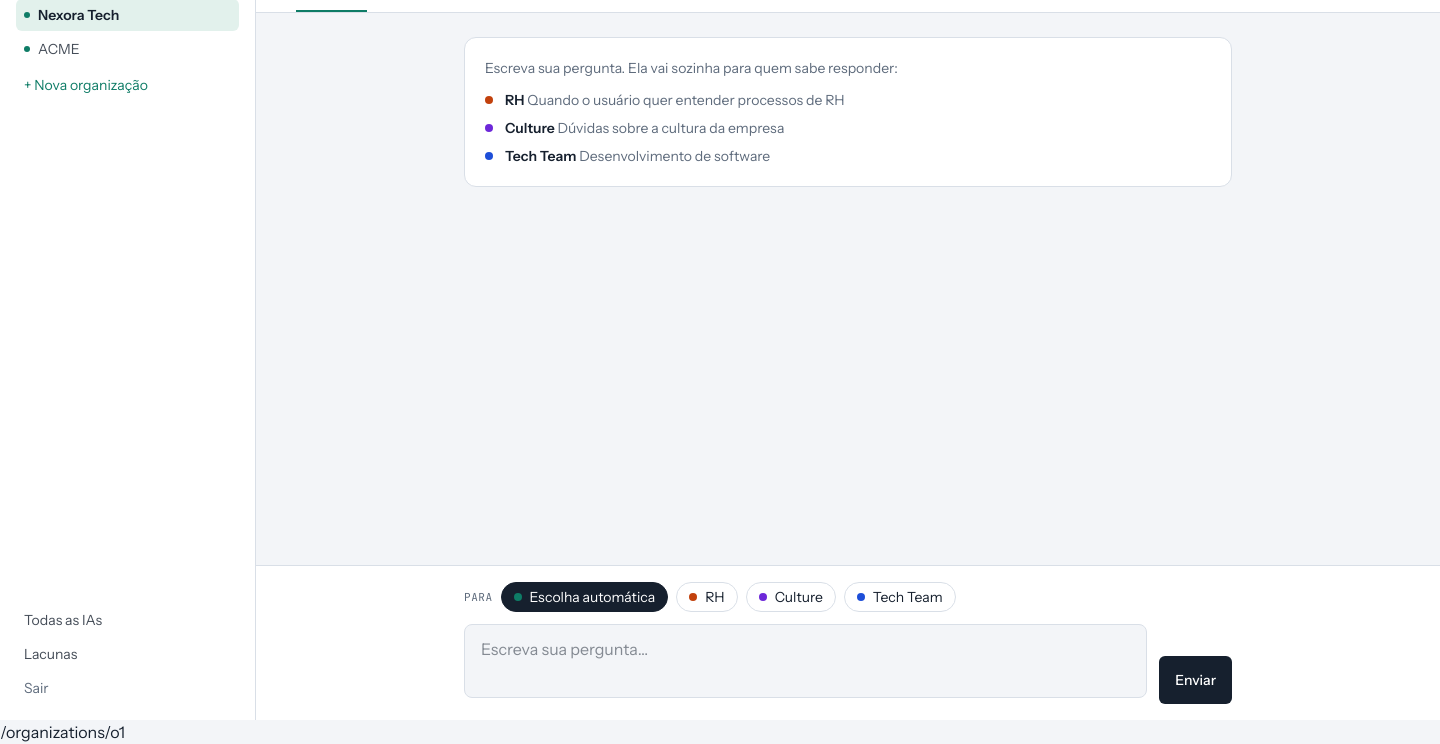
Test case: organization chat › follow-up is routed with the last answer as context
(page scrolled)
Type "Como peço férias?" into the text box named "Mensagem". click: (806, 661)
box: [464,624,1147,698]
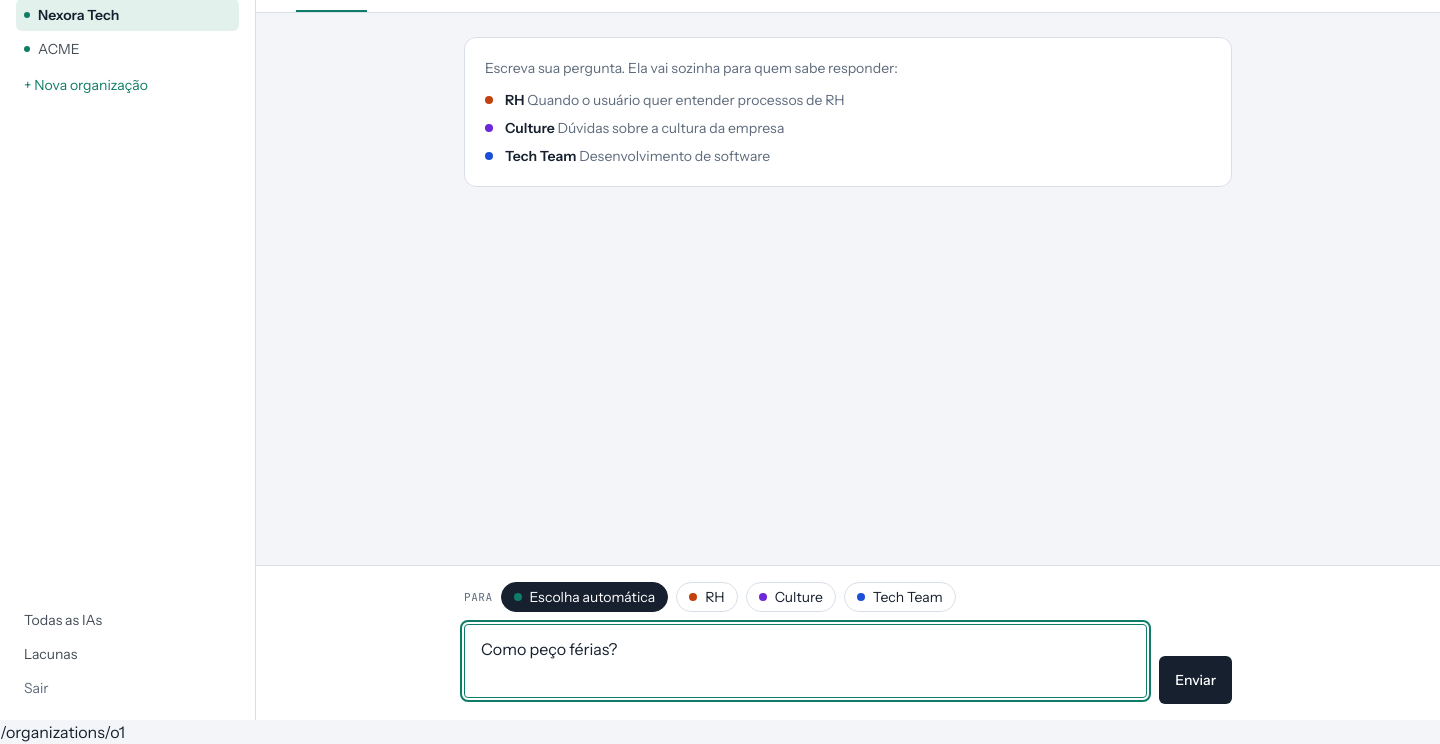
Click the button "Enviar". click: (1196, 680)
box: [1159,656,1232,704]
(page scrolled)
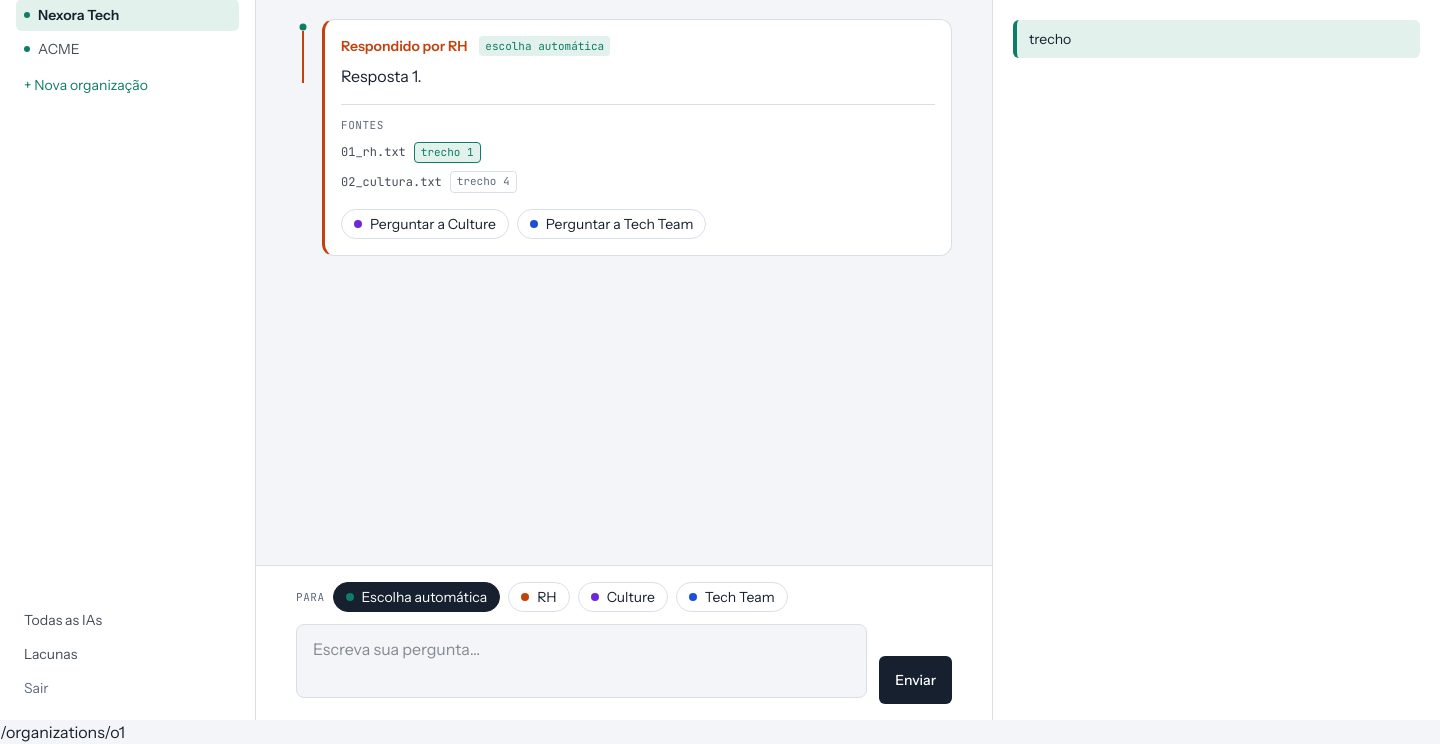
Expected: the text "Resposta 1." is shown, [341,66,422,86]
Click the button "Perguntar a Culture". click: (425, 224)
box: [341,209,509,239]
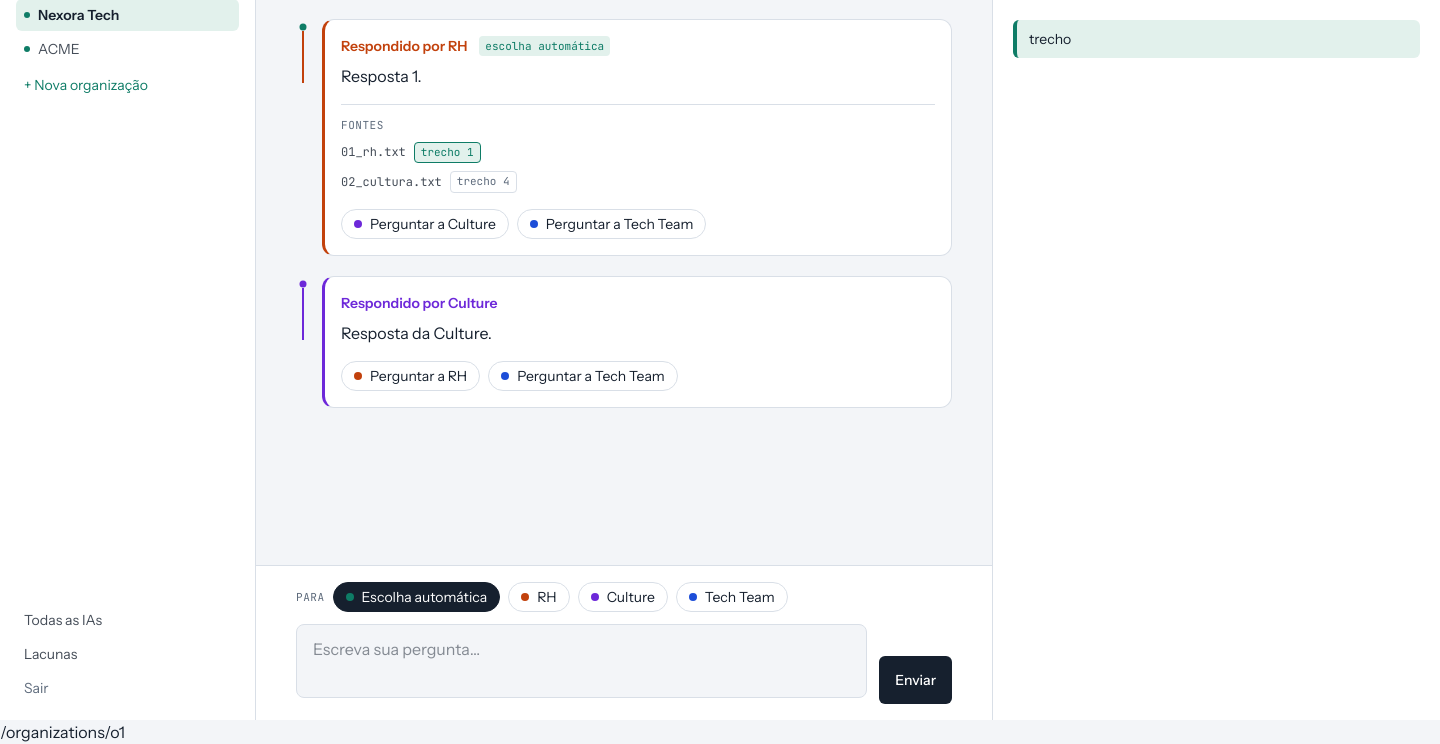
Expected: the text "Resposta da Culture." is shown, [341,323,492,343]
Type "E quantos dias?" into the text box named "Mensagem". click: (582, 661)
box: [296,624,867,698]
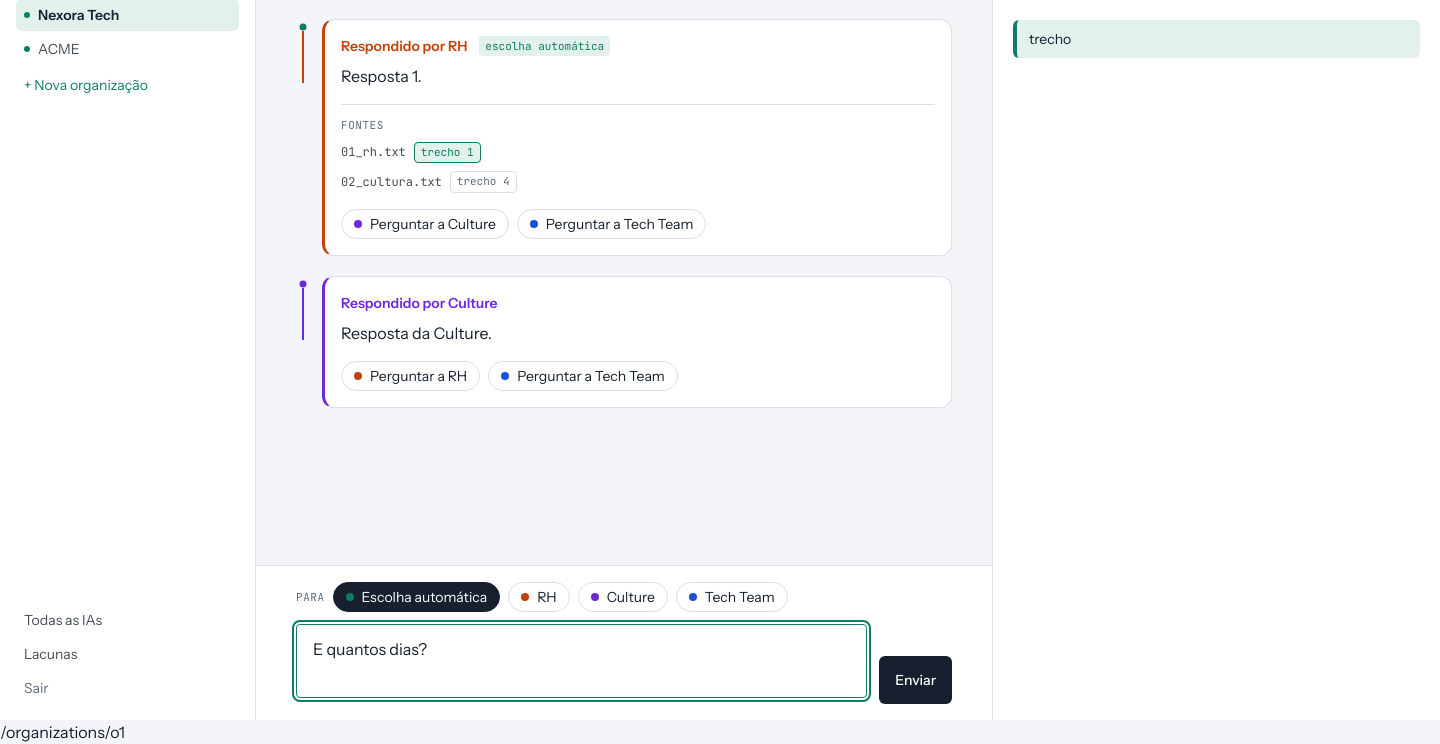
Click the button "Enviar". click: (916, 680)
box: [879,656,952,704]
(page scrolled)
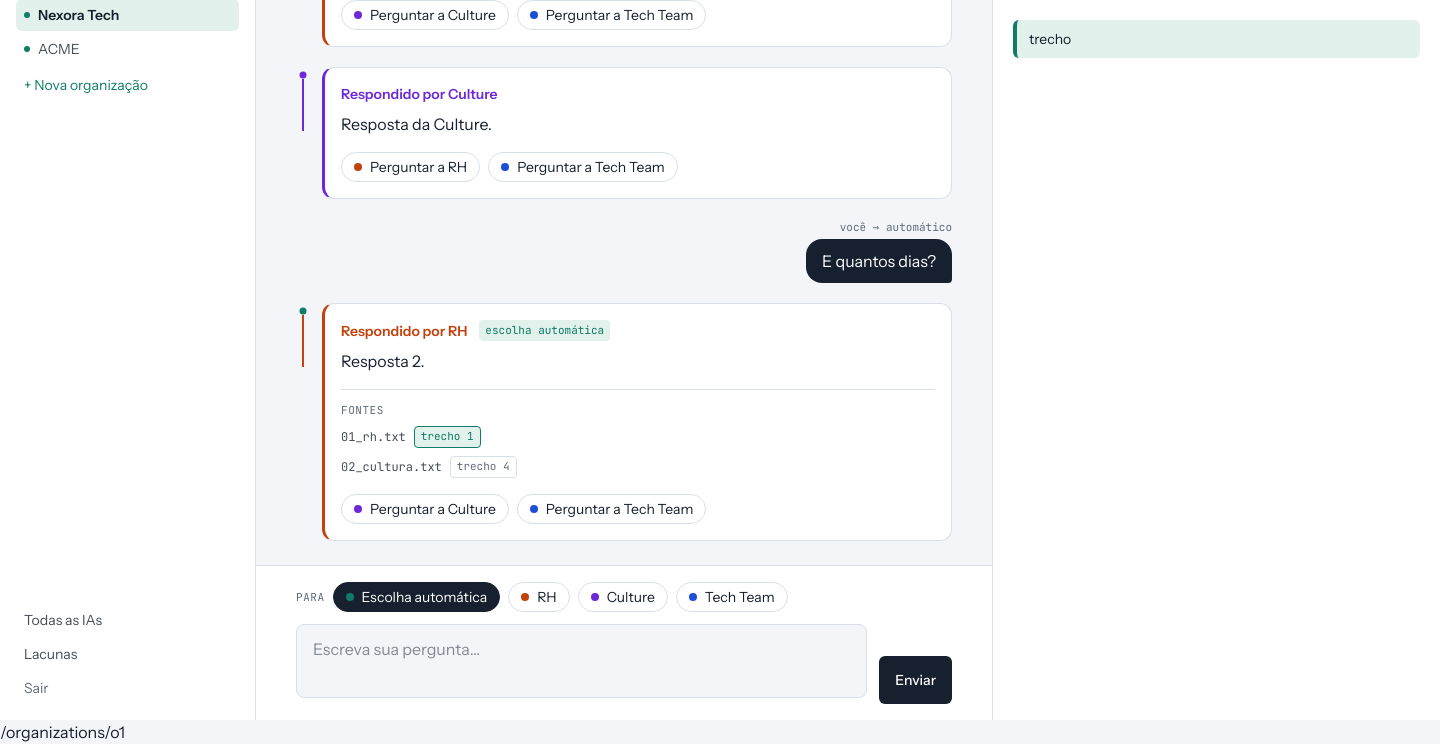
Expected: the text "Resposta 2." is shown, [341,351,425,371]
Expected: the text "você → automático" is shown 2 times
